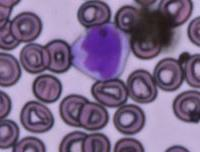M: (68, 21, 130, 82)
